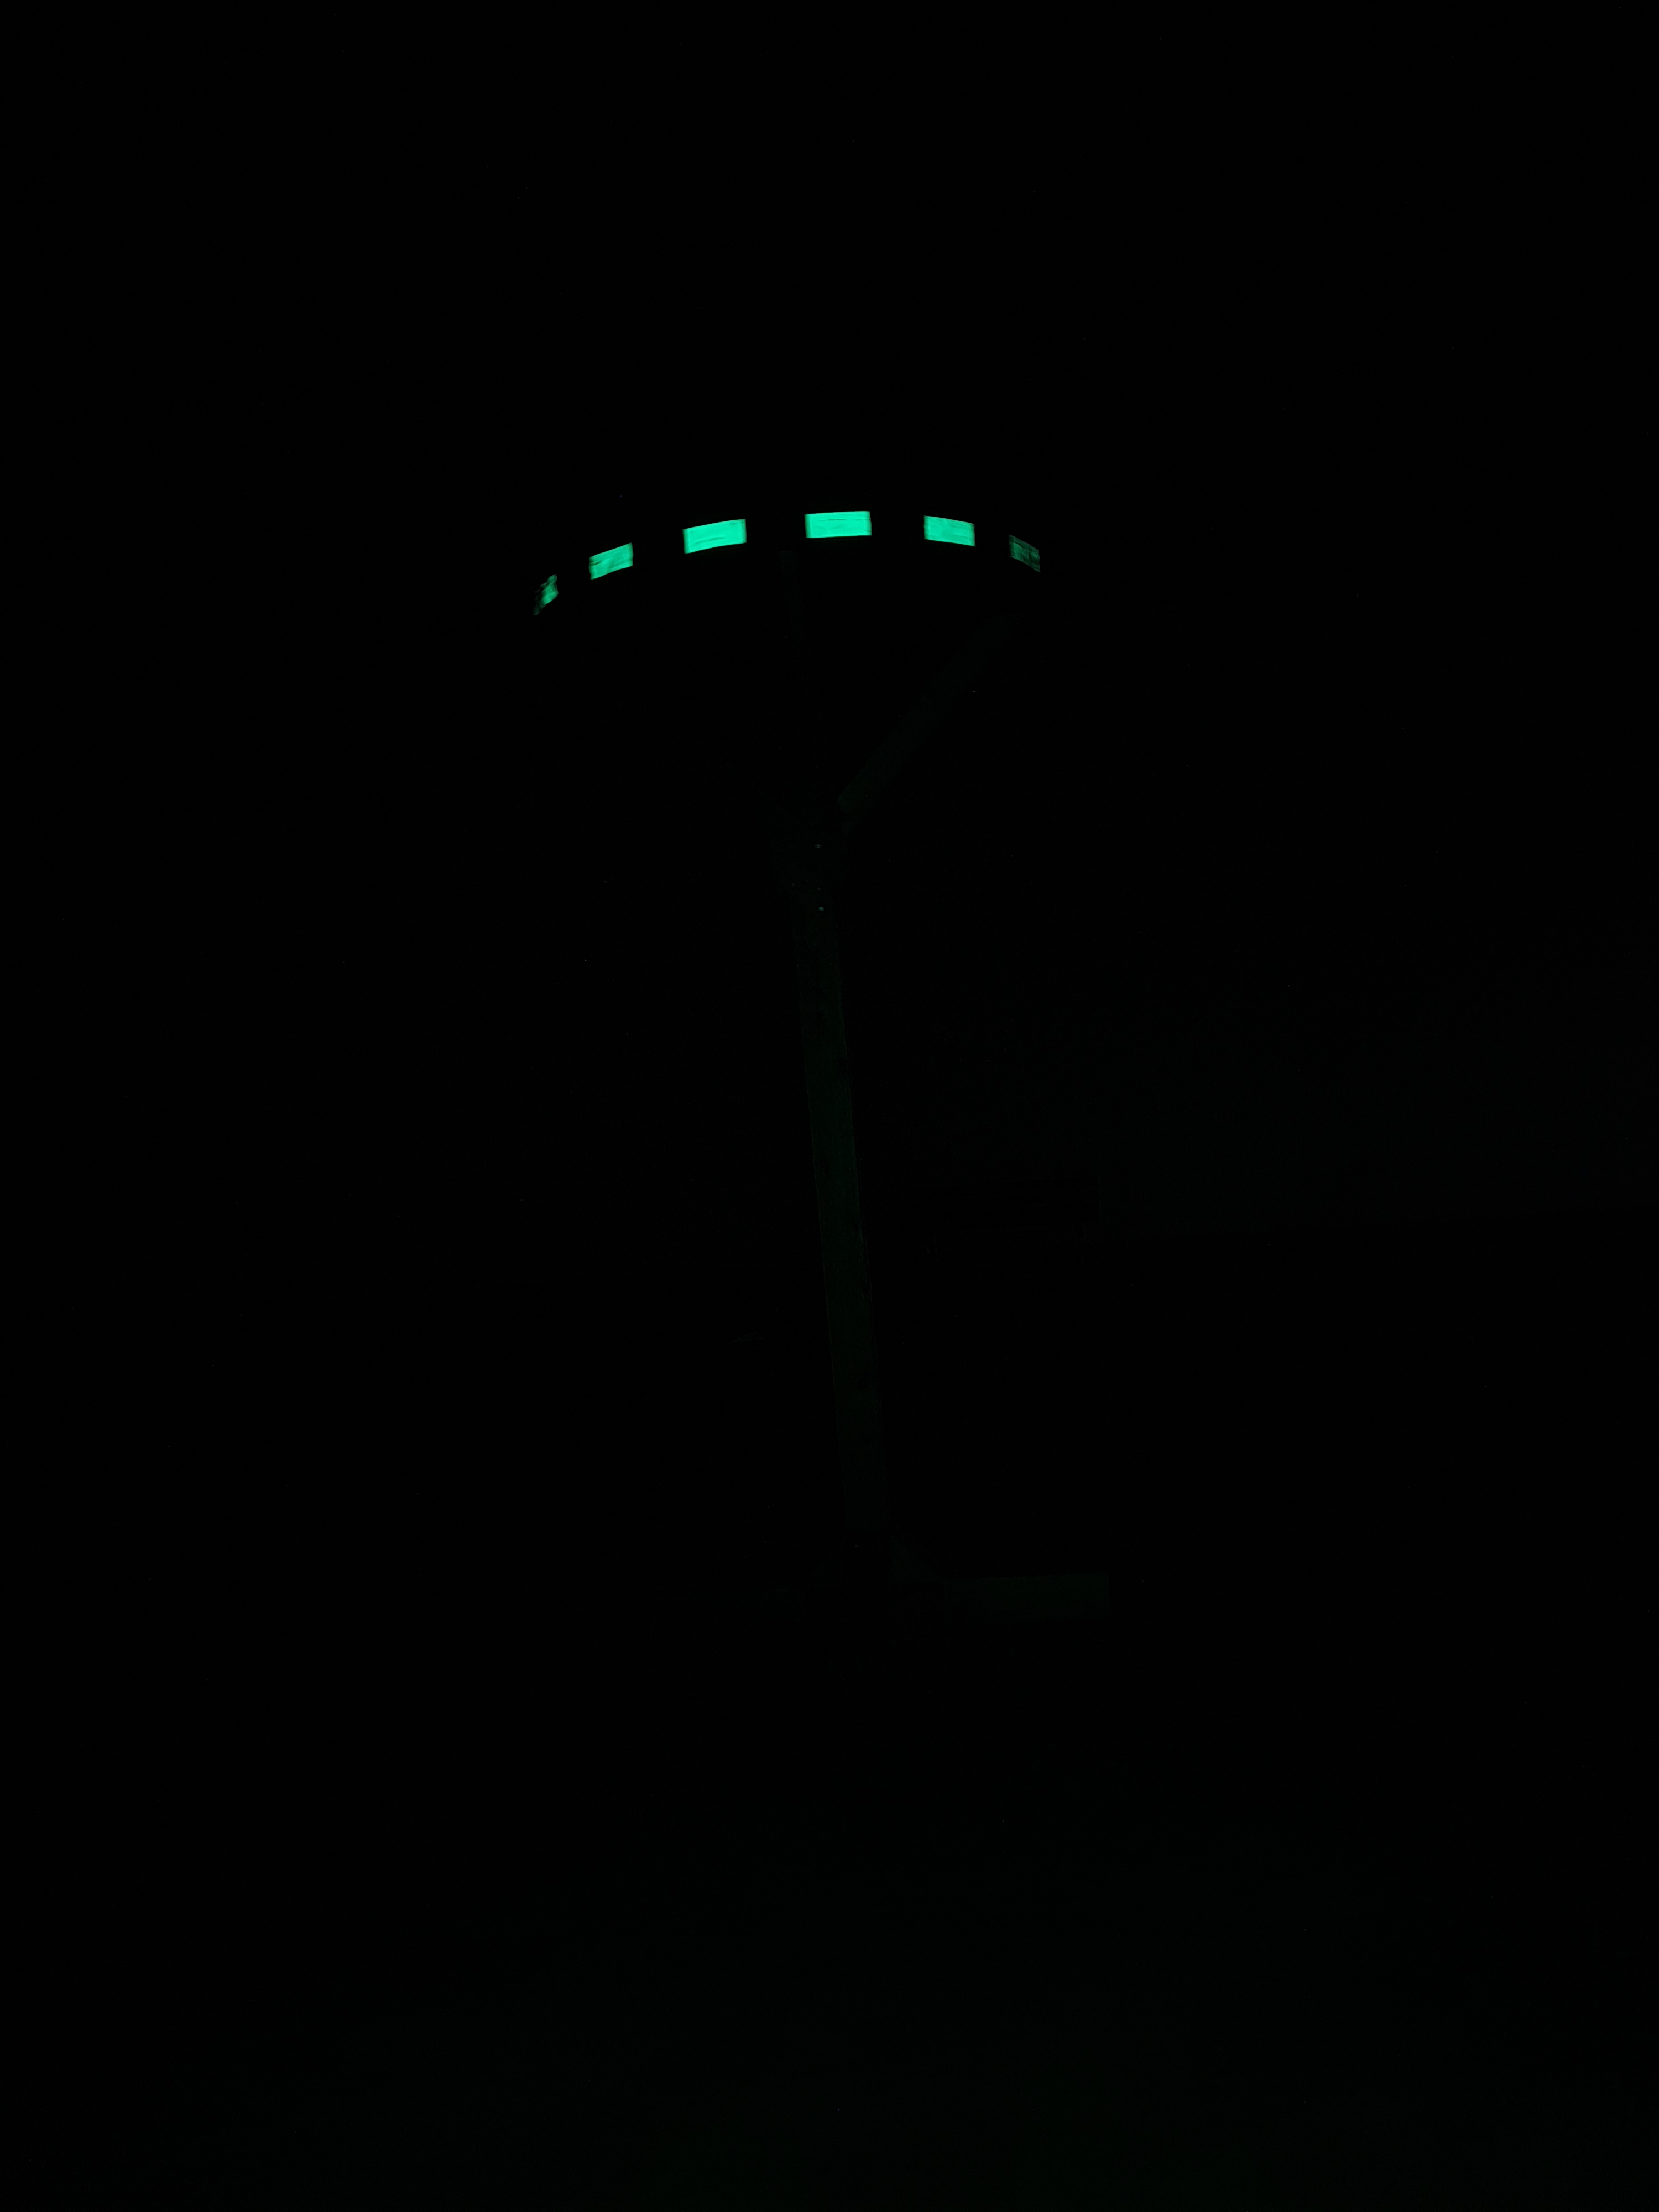hoop: (528, 493, 1044, 622)
